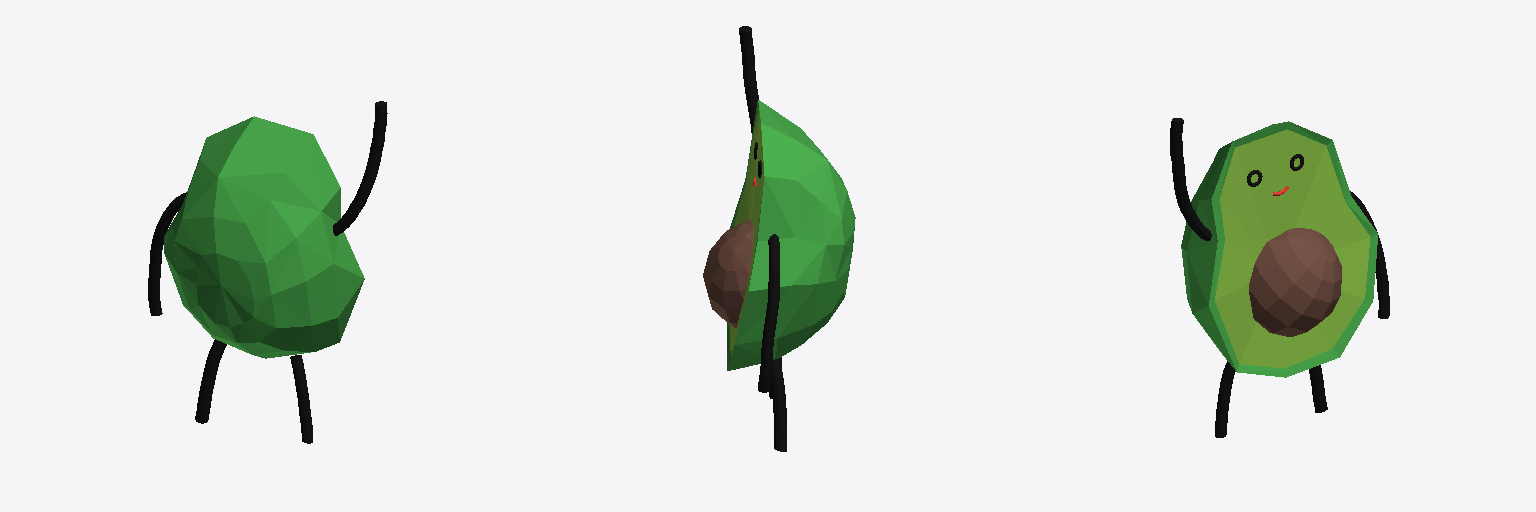
3 renders of one model, left to right at view 1: azimuth 30°, elevation 25°; view 2: azimuth 150°, elevation 25°; view 3: azimuth 270°, elevation 25°, orthographic.
Visible parts, largest first — view 1: group[number redacted], group[number redacted], group[number redacted], group[number redacted], group[number redacted]; view 2: group[number redacted], group[number redacted], group[number redacted], group[number redacted], group[number redacted]; view 3: group[number redacted], group[number redacted], group[number redacted], group[number redacted], group[number redacted], group[number redacted].
Boxes of the visible parts, <box> form: group[number redacted]: <box>164,116,364,358</box>; group[number redacted]: <box>333,101,387,235</box>; group[number redacted]: <box>148,192,186,315</box>; group[number redacted]: <box>195,339,226,423</box>; group[number redacted]: <box>290,355,312,443</box>; group[number redacted]: <box>727,100,855,370</box>; group[number redacted]: <box>703,219,753,328</box>; group[number redacted]: <box>758,234,779,392</box>; group[number redacted]: <box>771,359,786,451</box>; group[number redacted]: <box>739,26,758,132</box>; group[number redacted]: <box>1181,121,1377,377</box>; group[number redacted]: <box>1249,228,1341,336</box>; group[number redacted]: <box>1170,118,1211,240</box>; group[number redacted]: <box>1350,191,1389,318</box>; group[number redacted]: <box>1215,361,1235,437</box>; group[number redacted]: <box>1309,365,1327,412</box>.
Bounding box in the file's own units: 0.2012 × 0.4181 × 0.2427.